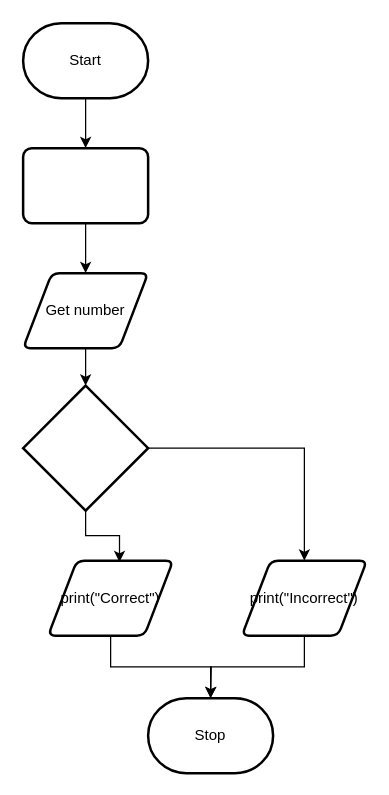
Image size: 389x795. Some labels were removed from this diagram. Here are the shapes that lost their labels. From the top down, the centre of each, then its label:
the point at 85,185: Generate some_variable
the point at 85,447: if number = some_variable
